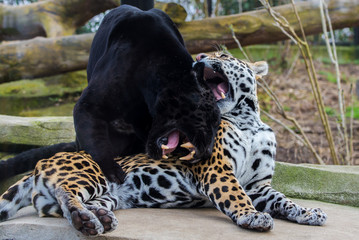leopard: (1, 52, 323, 236)
panther: (67, 5, 220, 186)
